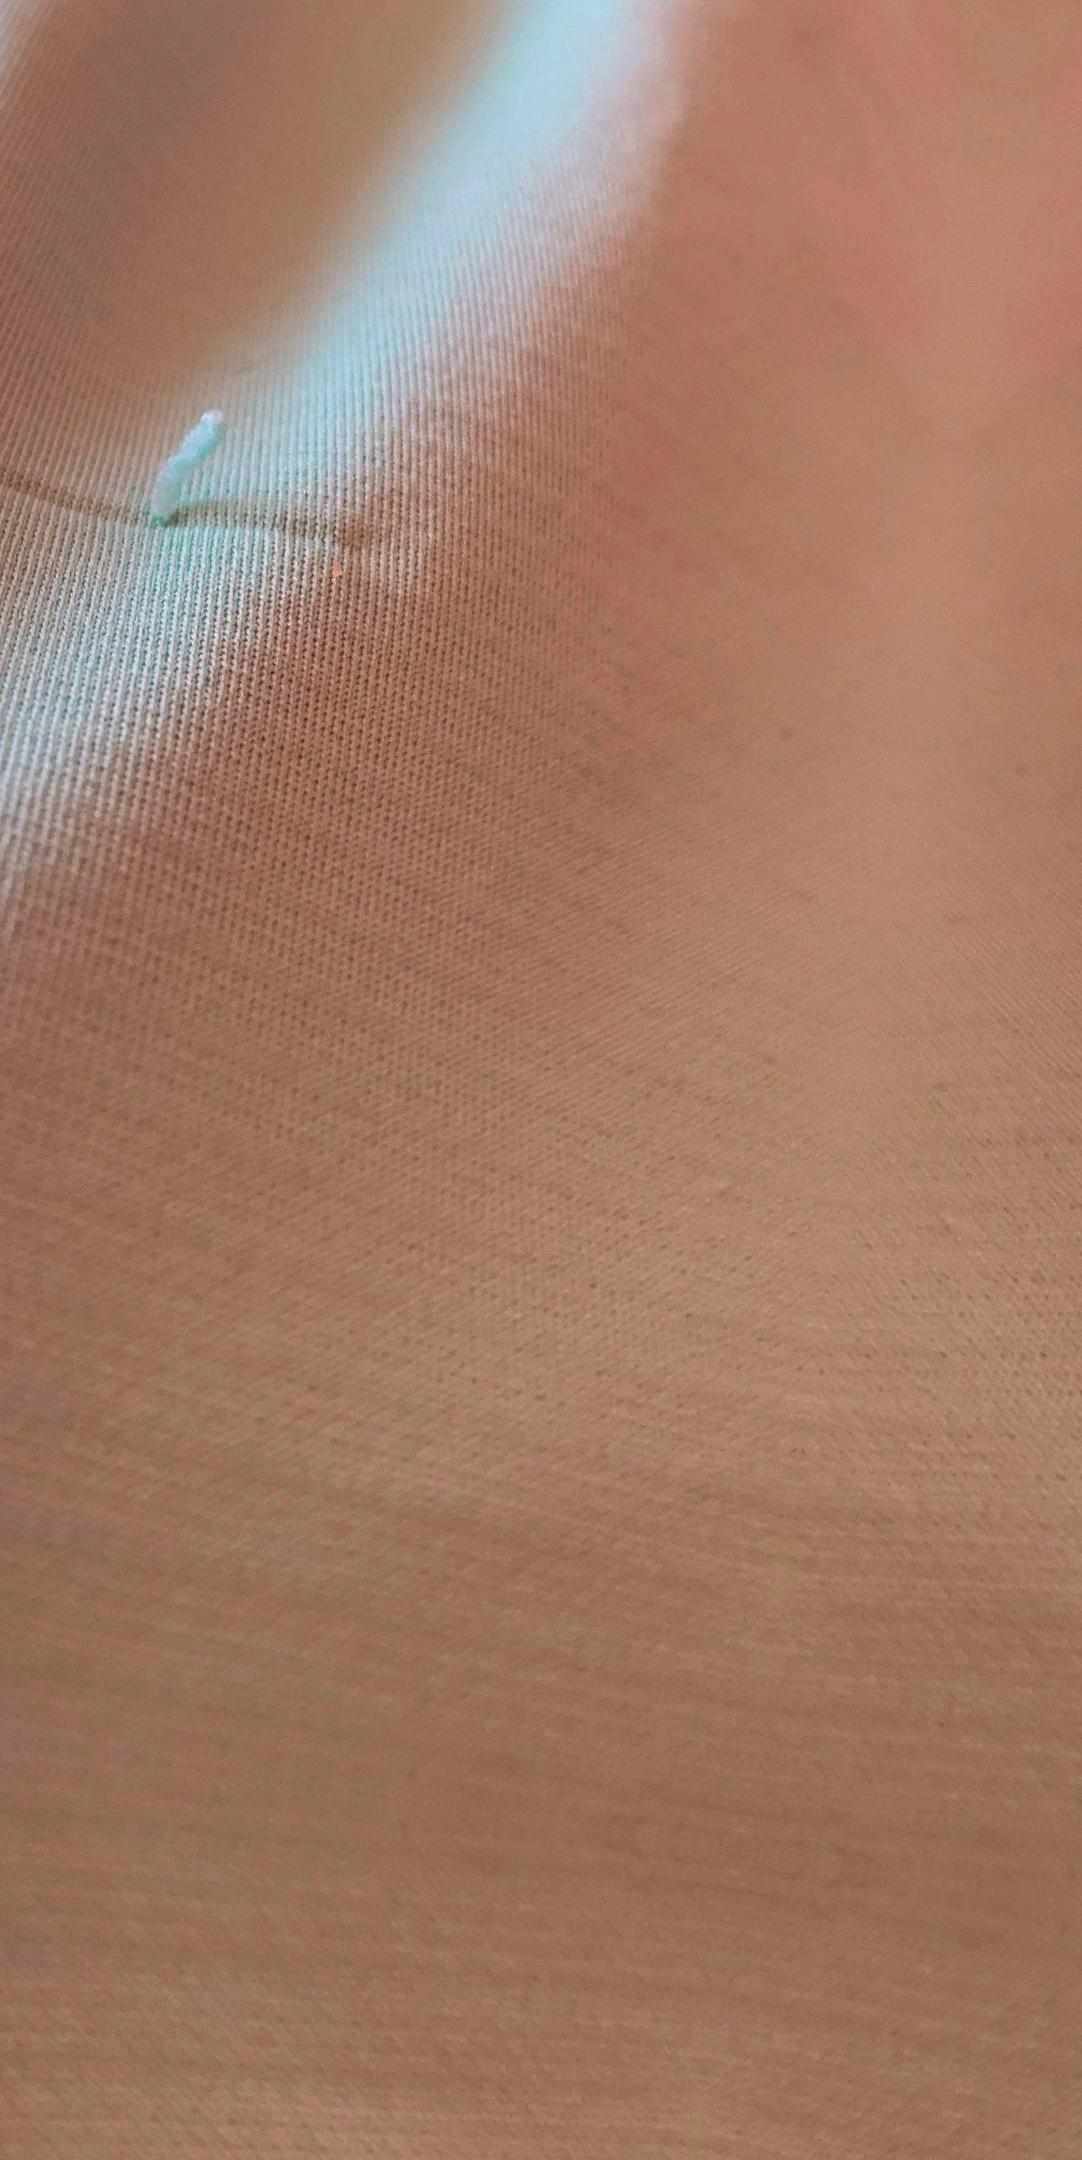snag: (91, 366, 280, 592)
